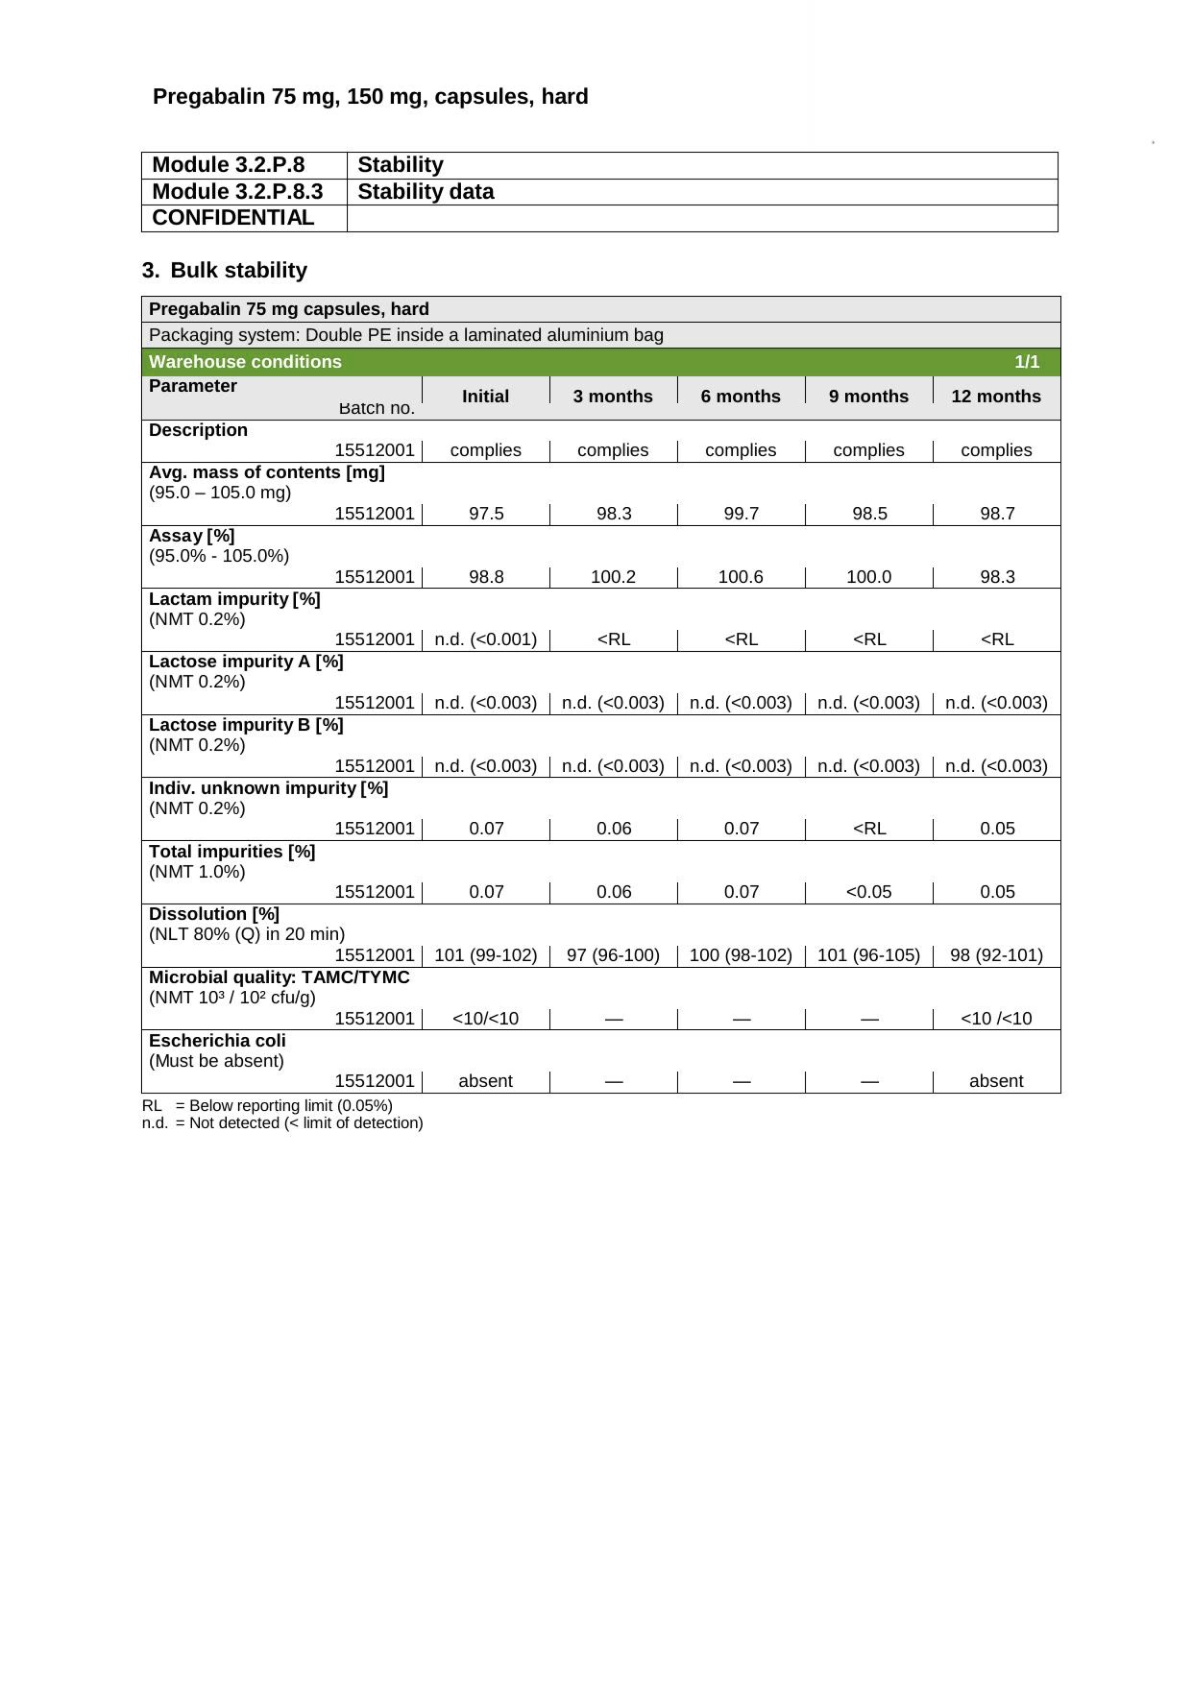full_lined: (139, 294, 1063, 1095), (139, 150, 1059, 234)
